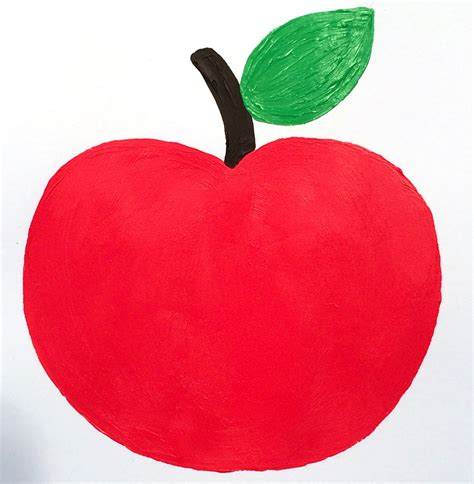apple: (21, 135, 449, 475)
